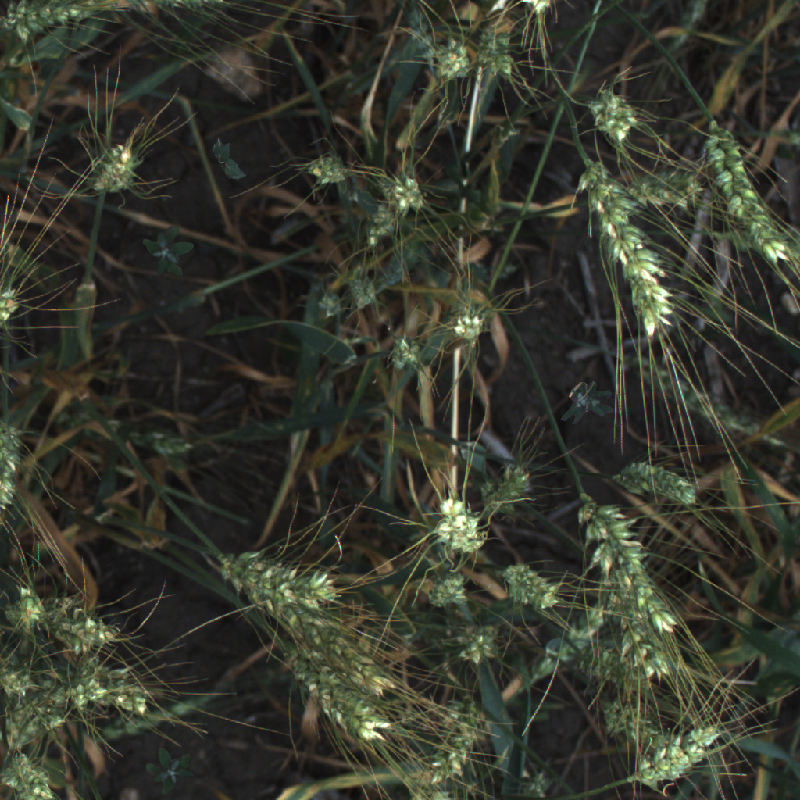spikelet: (210, 546, 405, 692), (564, 159, 685, 349), (615, 353, 792, 450), (568, 498, 685, 636), (700, 115, 796, 272), (273, 638, 396, 749), (519, 588, 621, 686), (595, 570, 678, 680), (225, 542, 357, 607), (632, 715, 737, 796), (601, 452, 707, 517), (423, 687, 486, 794), (561, 637, 662, 700), (593, 691, 679, 755), (1, 686, 71, 764), (573, 75, 646, 148), (1, 1, 129, 40), (48, 596, 124, 657), (364, 164, 417, 251), (496, 555, 563, 617), (618, 163, 703, 211), (480, 457, 538, 522), (432, 488, 486, 556), (296, 139, 362, 192), (466, 24, 528, 80), (95, 666, 158, 721), (122, 422, 200, 464), (1, 399, 28, 519), (1, 750, 64, 800), (417, 561, 477, 612), (88, 139, 139, 197), (452, 617, 505, 671), (420, 35, 472, 86), (1, 580, 48, 635), (442, 305, 502, 346), (62, 675, 110, 712), (385, 332, 423, 378), (391, 172, 439, 208), (1, 664, 42, 701), (345, 271, 378, 314), (1, 279, 26, 332), (520, 772, 556, 800), (315, 285, 342, 321), (513, 1, 560, 20)
weed: (555, 373, 622, 441), (142, 741, 200, 797), (143, 226, 194, 279), (207, 134, 249, 185)
